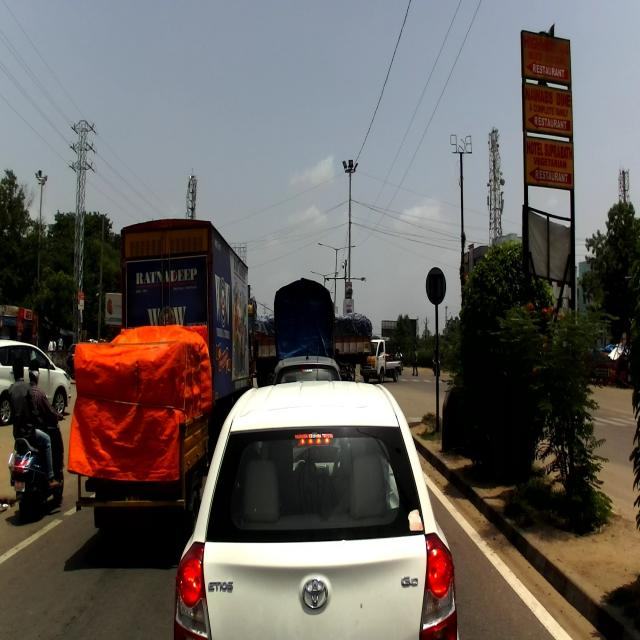Car_Toyota: (174, 344, 459, 639), (0, 337, 71, 426)
autorickshaw: (67, 324, 213, 542)
scooter: (8, 415, 65, 520)
truck: (120, 218, 252, 445)
